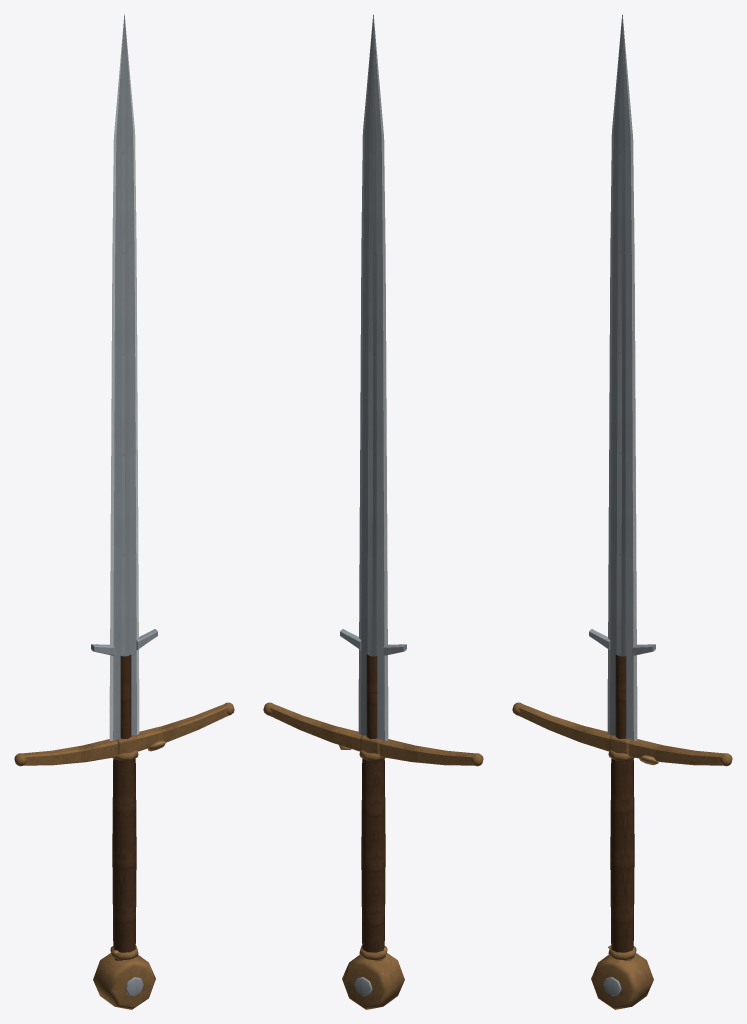
The model's file is greatsword.lod2.glb.
3 views of the same model, side by side, from view 1: azimuth 30°, elevation 25°; view 2: azimuth 150°, elevation 25°; view 3: azimuth 330°, elevation 25° (orthographic).
Parts seen in each view (by area): view 1: steel / forged blade steel, bronze / cast bronze with patina, leather / oiled leather wrap, edge / honed bright bevel; view 2: steel / forged blade steel, bronze / cast bronze with patina, leather / oiled leather wrap, edge / honed bright bevel; view 3: steel / forged blade steel, bronze / cast bronze with patina, leather / oiled leather wrap, edge / honed bright bevel.
Boxes of the visible parts, left/top/right/bottom form: steel / forged blade steel: left=91, top=14, right=157, bottom=996; bronze / cast bronze with patina: left=14, top=702, right=234, bottom=1009; leather / oiled leather wrap: left=112, top=654, right=136, bottom=952; edge / honed bright bevel: left=109, top=16, right=139, bottom=740; steel / forged blade steel: left=340, top=14, right=406, bottom=996; bronze / cast bronze with patina: left=263, top=702, right=483, bottom=1009; leather / oiled leather wrap: left=361, top=654, right=385, bottom=952; edge / honed bright bevel: left=358, top=15, right=388, bottom=740; steel / forged blade steel: left=589, top=14, right=655, bottom=996; bronze / cast bronze with patina: left=512, top=702, right=732, bottom=1009; leather / oiled leather wrap: left=610, top=654, right=634, bottom=952; edge / honed bright bevel: left=607, top=15, right=637, bottom=740.
Bounding box in the file's own units: 0.3798 × 1.64 × 0.066.
5 materials, 4 textured.
